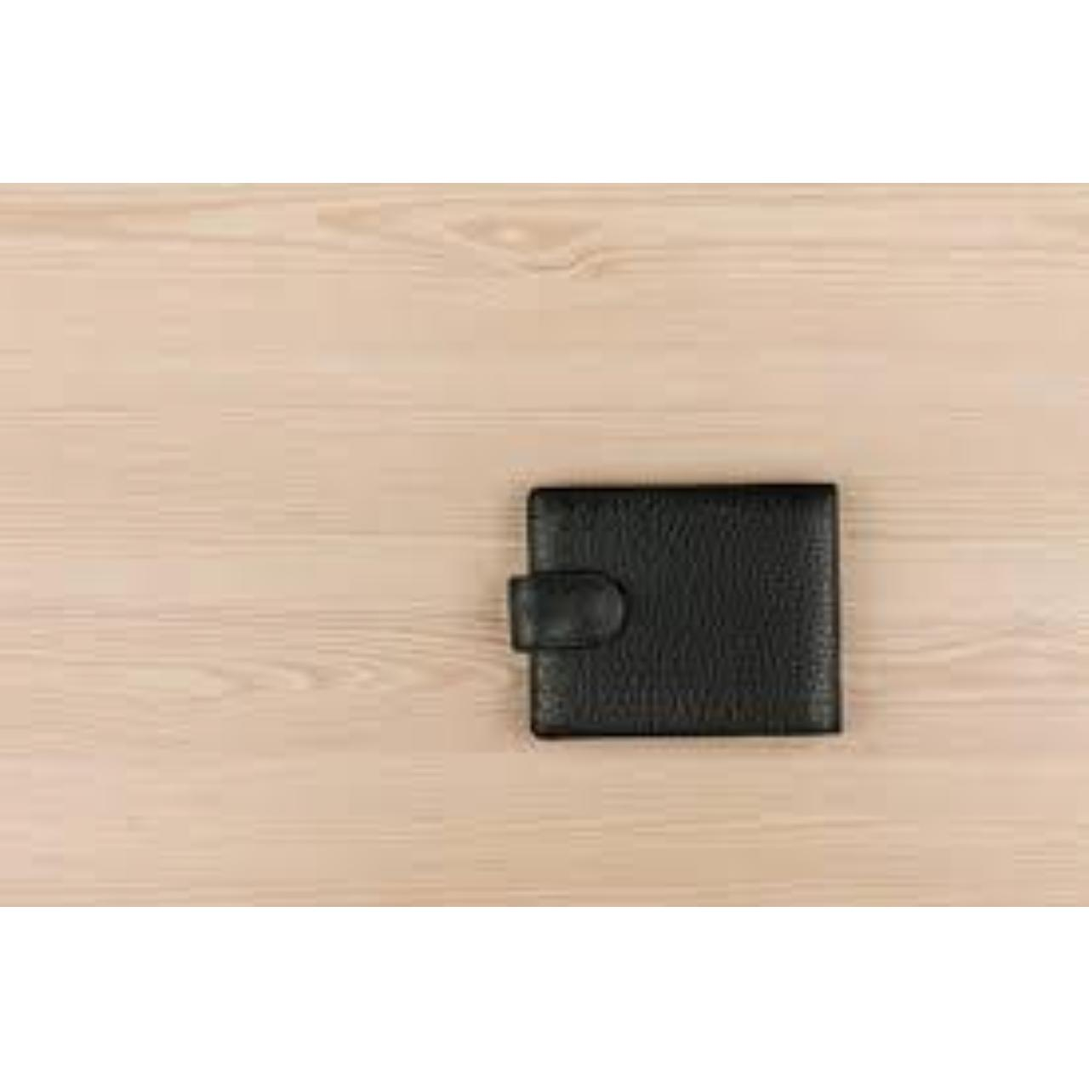wallet: (433, 353, 889, 832)
